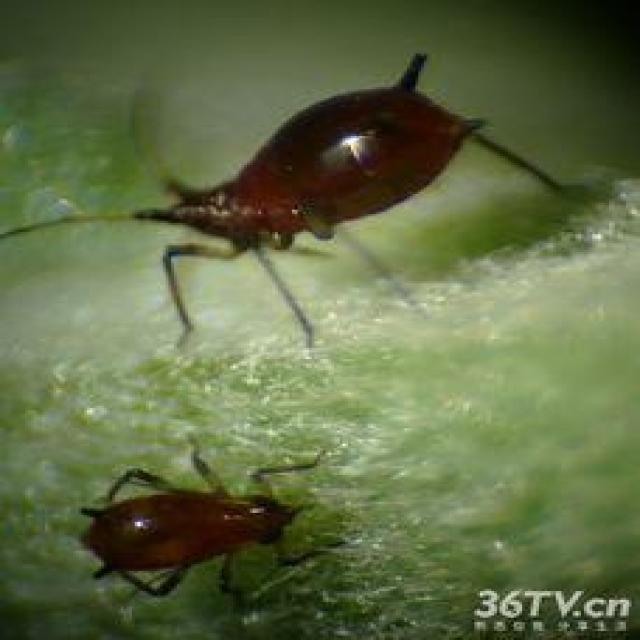Aphids: (38, 64, 594, 345), (43, 431, 388, 612)
